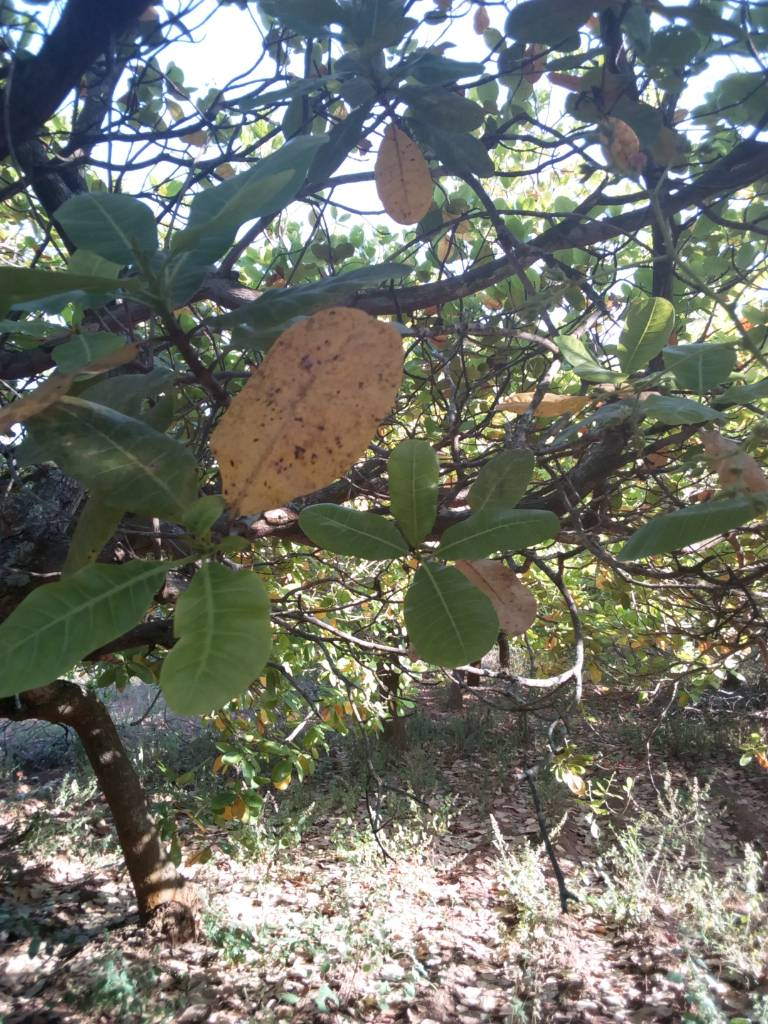Anthracnose: (216, 300, 411, 524), (33, 397, 200, 521), (449, 550, 543, 638), (365, 121, 433, 230)
